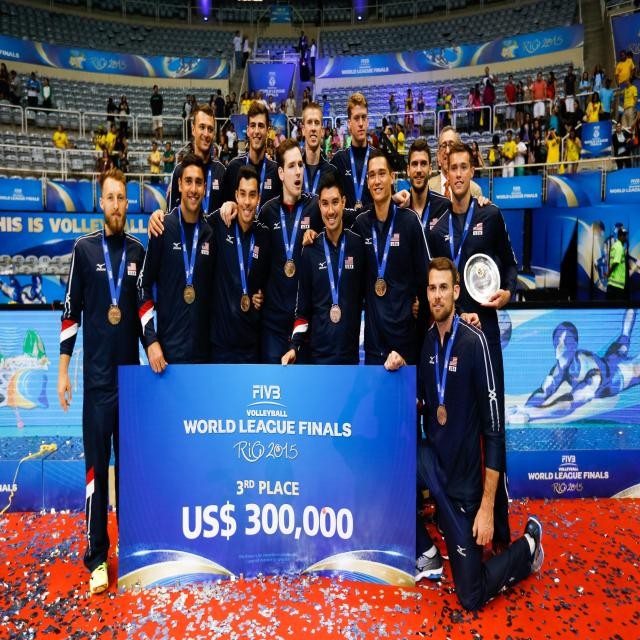body: (382, 253, 546, 614), (302, 147, 482, 439), (55, 165, 164, 597), (219, 137, 411, 364), (426, 141, 519, 555), (502, 220, 640, 434), (281, 174, 422, 368), (147, 164, 275, 365), (132, 150, 224, 376), (328, 91, 398, 208), (167, 103, 226, 220), (168, 102, 230, 212), (402, 136, 453, 234), (178, 122, 275, 167), (0, 252, 77, 308), (428, 125, 483, 203), (298, 101, 337, 196), (602, 228, 630, 309), (613, 76, 638, 135), (612, 122, 636, 170), (543, 104, 564, 152), (562, 127, 582, 174), (149, 84, 164, 146), (530, 71, 548, 120), (544, 126, 561, 176), (90, 124, 106, 172), (502, 130, 518, 178), (301, 144, 333, 168), (482, 79, 496, 133), (519, 113, 532, 171), (486, 134, 503, 178), (615, 49, 635, 86), (504, 74, 517, 130), (582, 91, 604, 123), (598, 77, 614, 121), (214, 89, 226, 146), (403, 88, 415, 144), (563, 65, 577, 113), (528, 129, 542, 176), (422, 46, 449, 70), (569, 99, 584, 141), (394, 123, 405, 179), (117, 95, 130, 142), (147, 141, 161, 184), (106, 123, 119, 169), (470, 141, 486, 178), (514, 134, 528, 176), (630, 110, 640, 168), (27, 72, 40, 115), (41, 77, 53, 123), (472, 82, 483, 132), (162, 142, 175, 184), (174, 56, 200, 77), (182, 94, 193, 142), (579, 71, 591, 115), (110, 127, 128, 156), (8, 69, 22, 106), (523, 76, 534, 123), (415, 90, 426, 136), (52, 123, 70, 151), (436, 86, 446, 136), (232, 30, 244, 70), (515, 81, 525, 129), (106, 98, 119, 134), (299, 43, 311, 82), (0, 63, 12, 101), (591, 64, 606, 94), (625, 50, 640, 80), (115, 148, 132, 174), (225, 123, 238, 157), (546, 71, 559, 102), (449, 89, 458, 132), (389, 92, 400, 126), (99, 147, 113, 173), (443, 86, 452, 126), (336, 117, 346, 151), (284, 90, 296, 118), (329, 127, 341, 155), (265, 119, 276, 149), (467, 86, 474, 132), (300, 90, 310, 122), (299, 30, 308, 65), (224, 94, 233, 129), (480, 66, 494, 88), (273, 126, 286, 149), (565, 112, 578, 135), (189, 95, 198, 127), (242, 33, 250, 69), (322, 94, 330, 130), (241, 90, 252, 115), (310, 38, 317, 77), (323, 126, 332, 156), (386, 127, 396, 152), (532, 119, 542, 141), (324, 119, 334, 140), (296, 121, 305, 143), (382, 117, 391, 139), (209, 94, 217, 118), (267, 95, 277, 114), (369, 129, 379, 148), (230, 92, 238, 115), (257, 90, 267, 108), (435, 152, 442, 175), (345, 126, 352, 148), (291, 124, 301, 139), (239, 94, 246, 115), (278, 99, 287, 114), (250, 90, 257, 106), (306, 86, 312, 104), (254, 90, 262, 103), (34, 69, 39, 78), (314, 98, 320, 105), (366, 132, 370, 140)
